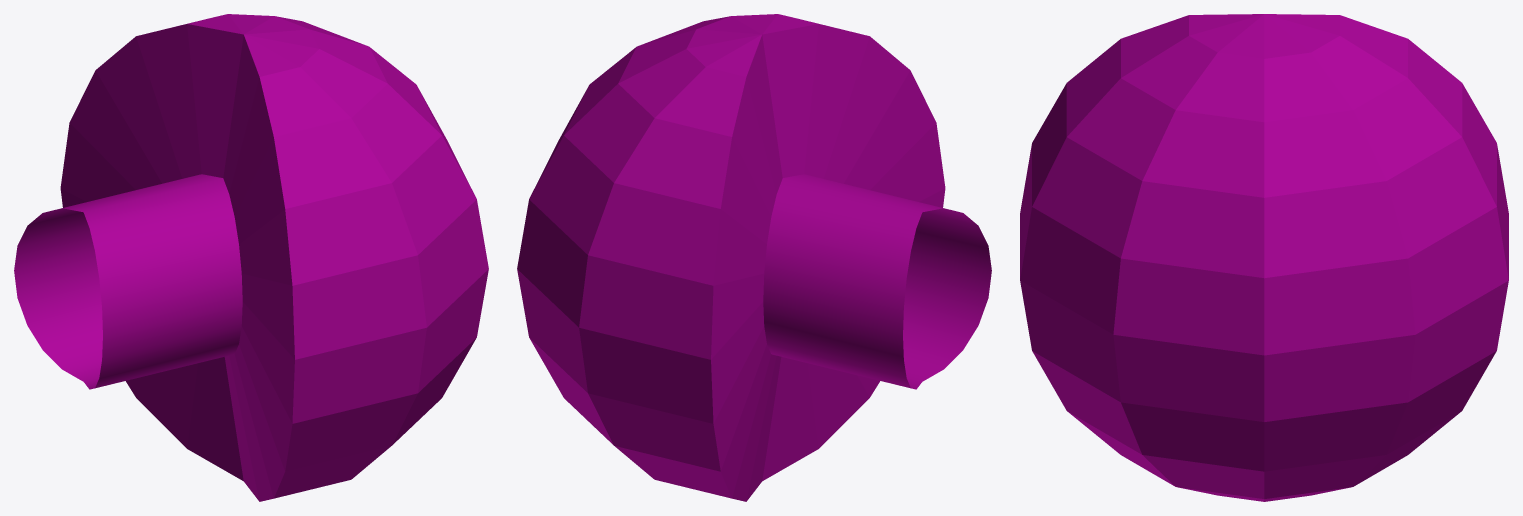
The model's file is ElfHut_DeskKnob.fbx.
The picture shows the model from 3 angles, left to right: view 1: azimuth 30°, elevation 25°; view 2: azimuth 150°, elevation 25°; view 3: azimuth 270°, elevation 25°; orthographic projection. The views are drawn at different scales.
Parts seen in each view (by area): view 1: pSphere1; view 2: pSphere1; view 3: pSphere1.
Boxes of the visible parts, x1,y1,x2,y2 form: pSphere1: [14, 14, 488, 501]; pSphere1: [517, 14, 991, 501]; pSphere1: [1020, 14, 1508, 501].
Size of the model in its own units: 1.87 by 2 by 1.9.
